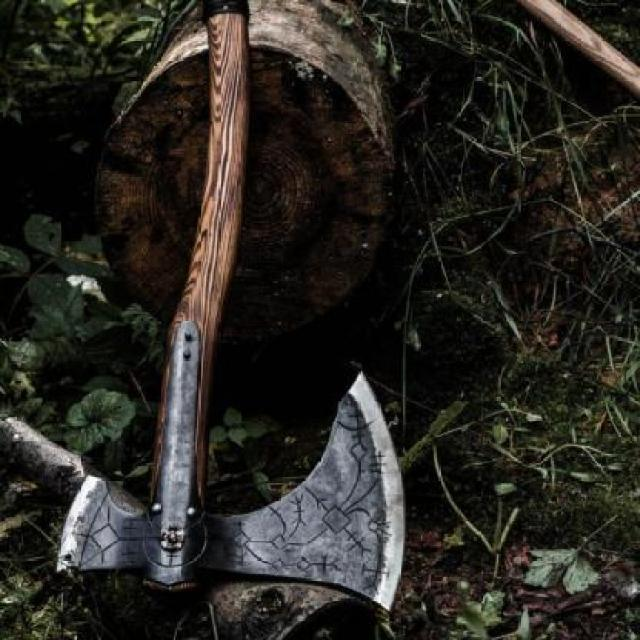weapon: (0, 0, 406, 638)
